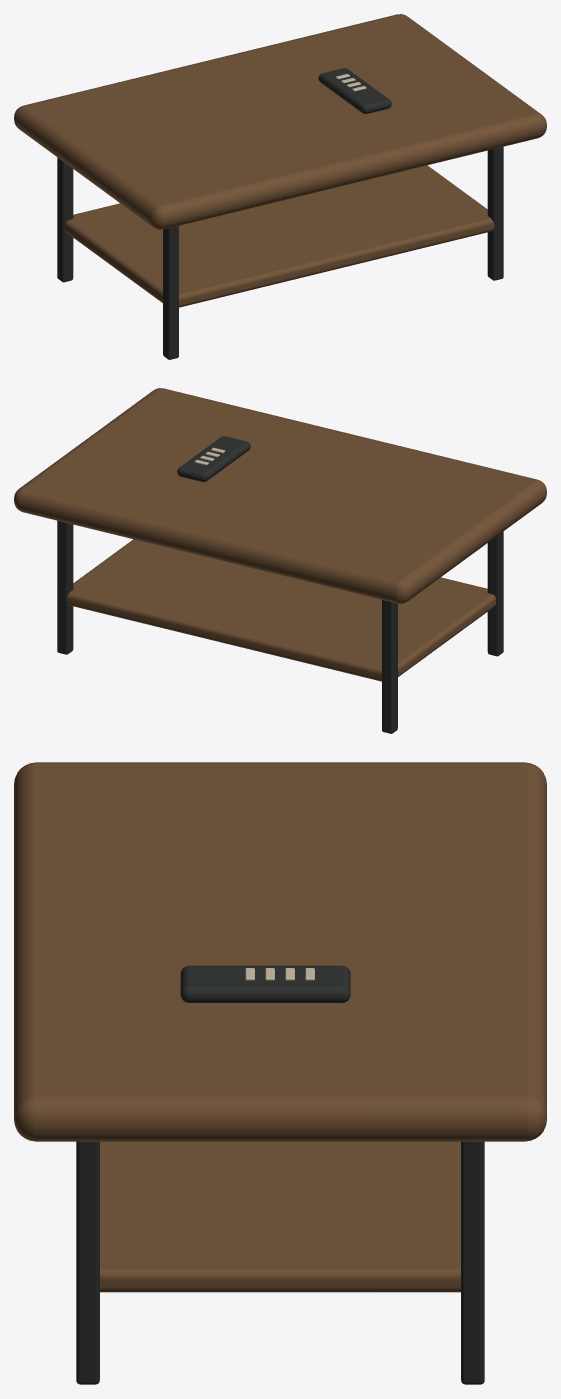
Rendered from coffee_table.glb.
The picture shows the model from 3 angles, top to bottom: view 1: azimuth 30°, elevation 25°; view 2: azimuth 150°, elevation 25°; view 3: azimuth 270°, elevation 25°; orthographic projection. The views are drawn at different scales.
Parts seen in each view (by area): view 1: Solid oak top, Recessed lower shelf, Steel leg.003, Steel leg.001, Steel leg, Remote; view 2: Solid oak top, Recessed lower shelf, Steel leg.002, Steel leg, Steel leg.001, Remote; view 3: Solid oak top, Recessed lower shelf, Remote, Steel leg.002, Steel leg.003.
Boxes of the visible parts, bbox=[...] form: Solid oak top: bbox=[14, 14, 546, 229]; Recessed lower shelf: bbox=[65, 165, 494, 307]; Steel leg.003: bbox=[487, 146, 503, 280]; Steel leg.001: bbox=[163, 226, 178, 359]; Steel leg: bbox=[57, 157, 73, 282]; Remote: bbox=[318, 68, 391, 113]; Solid oak top: bbox=[14, 388, 546, 603]; Recessed lower shelf: bbox=[66, 539, 495, 681]; Steel leg.002: bbox=[57, 520, 73, 654]; Steel leg: bbox=[382, 600, 397, 733]; Steel leg.001: bbox=[487, 531, 503, 656]; Remote: bbox=[177, 436, 250, 481]; Solid oak top: bbox=[14, 762, 546, 1141]; Recessed lower shelf: bbox=[100, 1141, 460, 1292]; Remote: bbox=[180, 965, 350, 1002]; Steel leg.002: bbox=[461, 1141, 484, 1384]; Steel leg.003: bbox=[76, 1141, 99, 1384].
Size of the model in its own units: 1.12 by 0.487 by 0.72.
